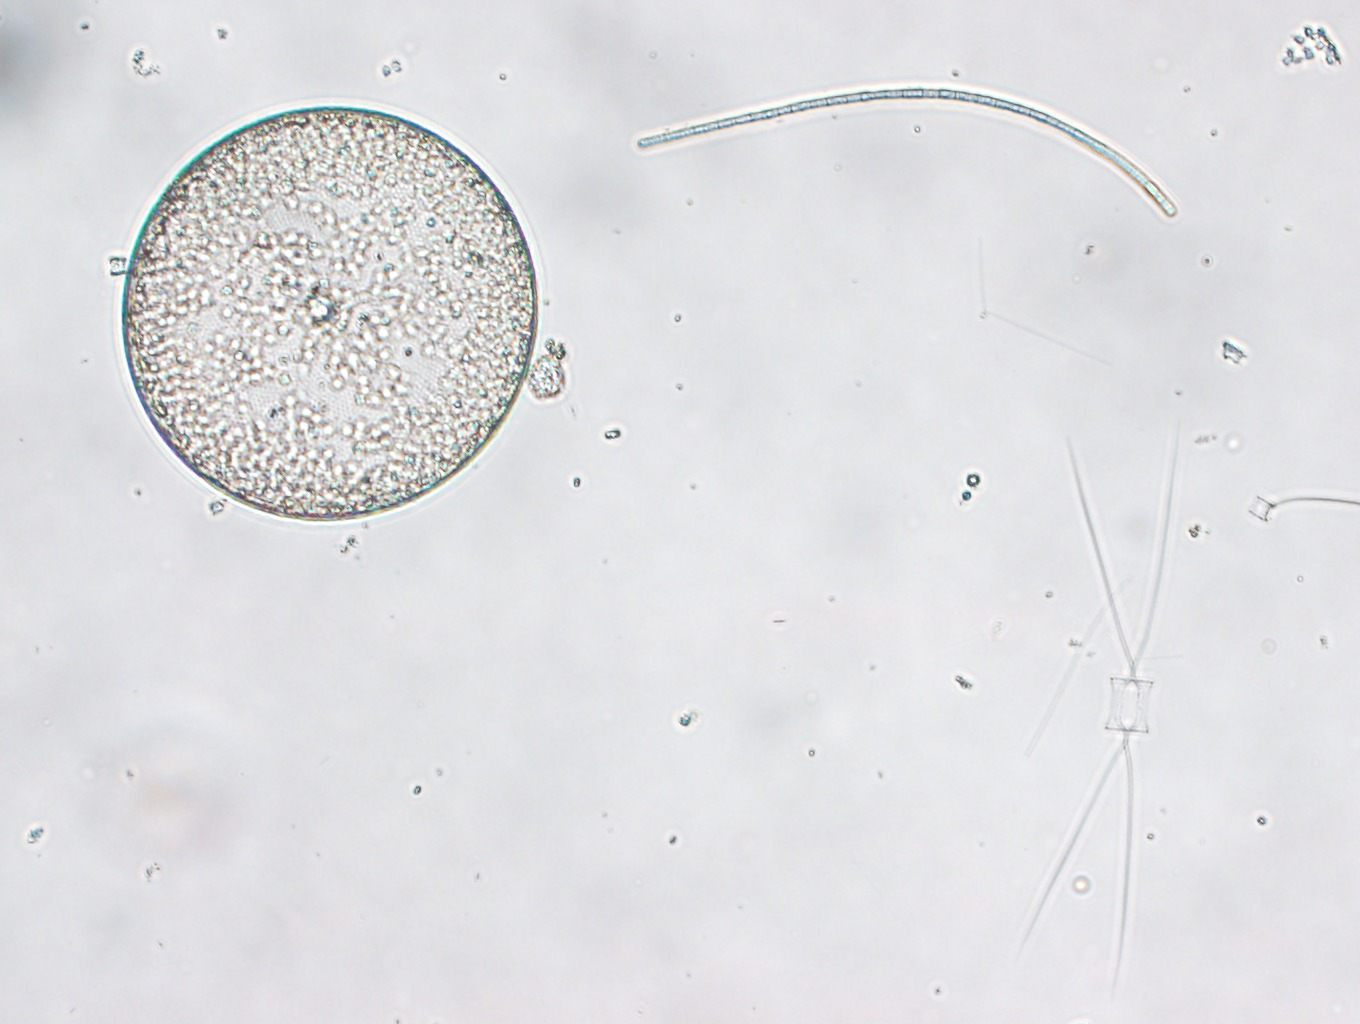chaetoceros: (1011, 427, 1179, 987)
coscinodiscus: (120, 105, 540, 524)
